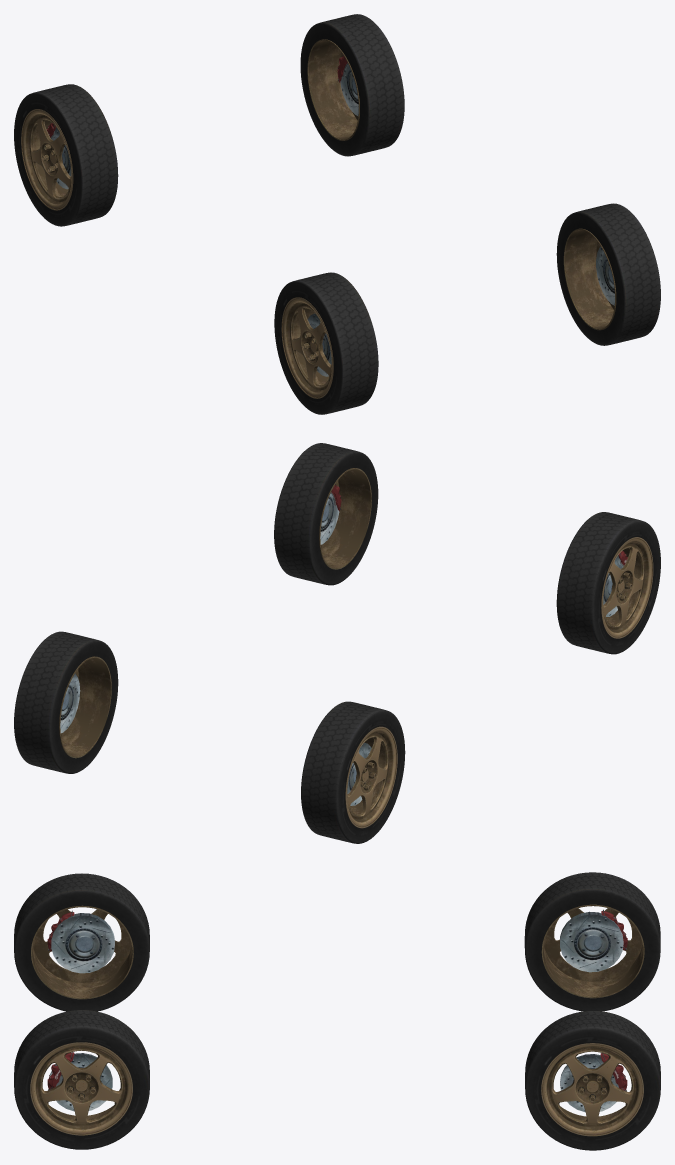
The model's file is imp_wheels.glb.
3 views of the same model, one above another, from view 1: azimuth 30°, elevation 25°; view 2: azimuth 150°, elevation 25°; view 3: azimuth 270°, elevation 25° (orthographic).
Parts seen in each view (by area): view 1: Tyre.005_wheel_0, Tyre.004_wheel_0, Tyre.002_wheel_0, Tyre.001_wheel_0, Wheel.005, Wheel.004, Wheel.001, Wheel.002, Brake Disc; view 2: Tyre.005_wheel_0, Tyre.004_wheel_0, Tyre.001_wheel_0, Tyre.002_wheel_0, Wheel.004, Wheel.005, Wheel.002, Wheel.001, Brake Disc.001, Brake Disc; view 3: Tyre.001_wheel_0, Tyre.002_wheel_0, Tyre.004_wheel_0, Tyre.005_wheel_0, Wheel.001, Wheel.002, Wheel.004, Wheel.005, Brake Disc.003, Brake Disc.002, Brake Disc.001, Brake Disc.
Boxes of the visible parts, x1,y1,x2,y2 form: Tyre.005_wheel_0: (274,272,378,414); Tyre.004_wheel_0: (14,84,118,226); Tyre.002_wheel_0: (300,14,404,156); Tyre.001_wheel_0: (556,203,660,345); Wheel.005: (281,297,333,398); Wheel.004: (21,109,73,210); Wheel.001: (563,228,616,330); Wheel.002: (307,39,359,140); Brake Disc: (596,246,614,305); Tyre.005_wheel_0: (556,512,660,654); Tyre.004_wheel_0: (301,701,405,843); Tyre.001_wheel_0: (274,443,378,585); Tyre.002_wheel_0: (14,631,118,773); Wheel.004: (345,726,397,828); Wheel.005: (601,537,653,638); Wheel.002: (59,656,111,758); Wheel.001: (319,468,371,569); Brake Disc.001: (60,673,80,733); Brake Disc: (320,493,339,544); Tyre.001_wheel_0: (14,1010,149,1149); Tyre.002_wheel_0: (525,1011,660,1150); Tyre.004_wheel_0: (524,872,660,1011); Tyre.005_wheel_0: (14,873,149,1011); Wheel.001: (30,1042,132,1135); Wheel.002: (541,1043,643,1136); Wheel.004: (541,904,644,998); Wheel.005: (31,905,133,999); Brake Disc.003: (51,913,114,973); Brake Disc.002: (560,911,623,972); Brake Disc.001: (560,1054,618,1112); Brake Disc: (49,1053,112,1111).
Size of the model in its own units: 240 by 87.91 by 418.
1 material, 1 textured.
